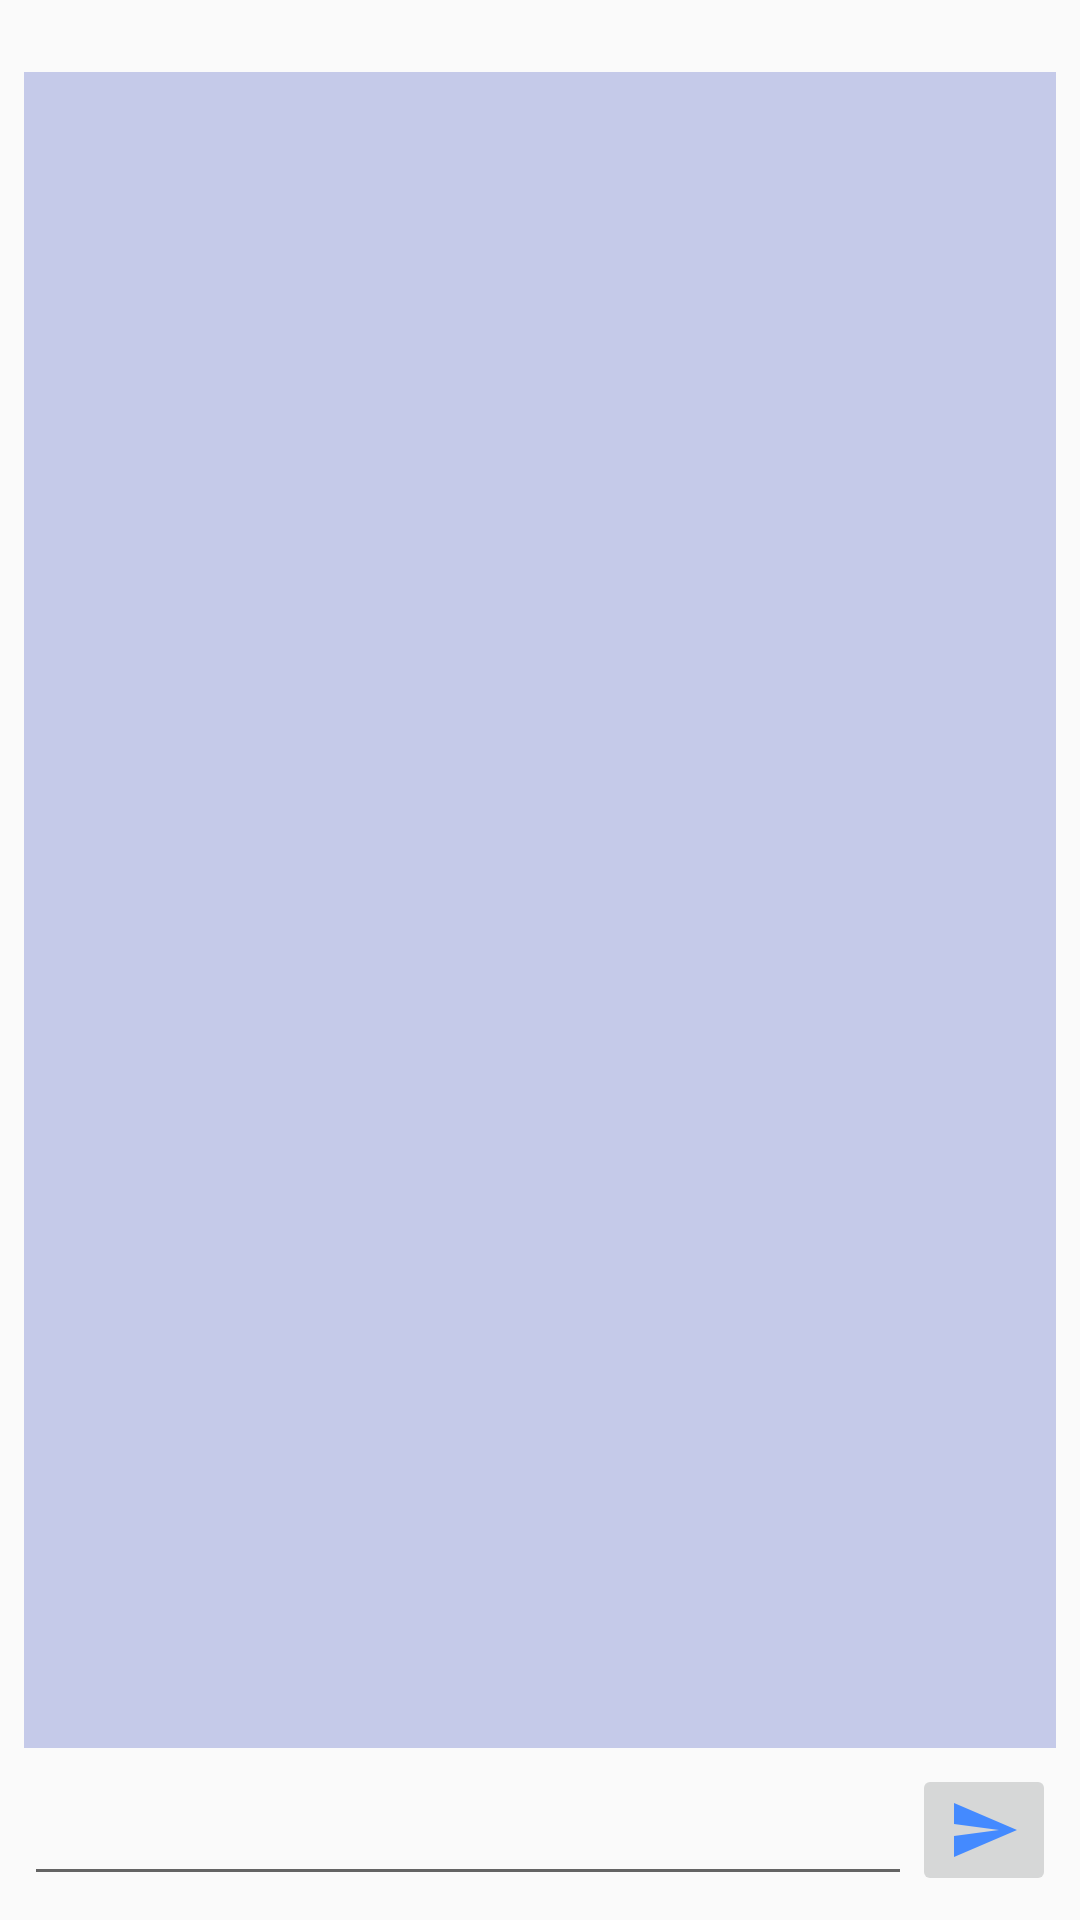

Where icons sit on this 1080*1920 app screen, as [x1=x1, y1=y1, x2=x2, y2=y2]:
send: [x1=924, y1=1782, x2=1044, y2=1878]
